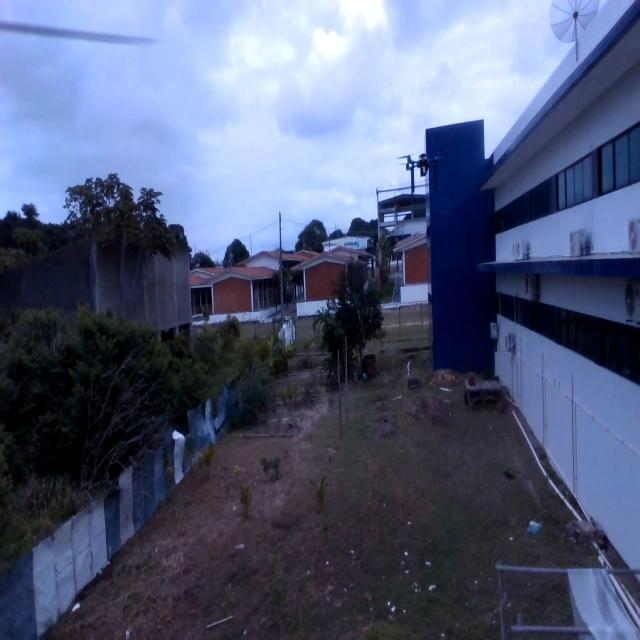-uav-: (400, 142, 443, 203)
